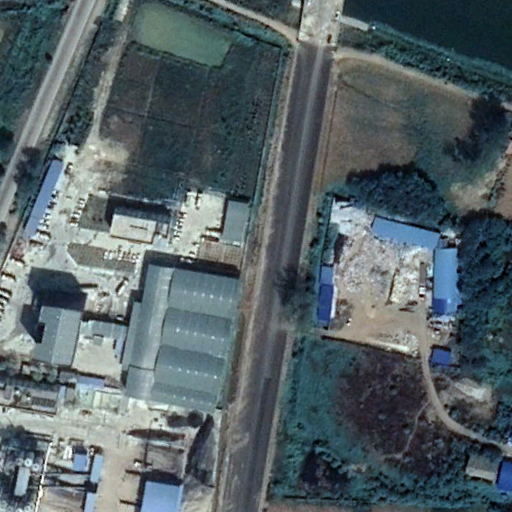msw: (336, 224, 432, 304)
